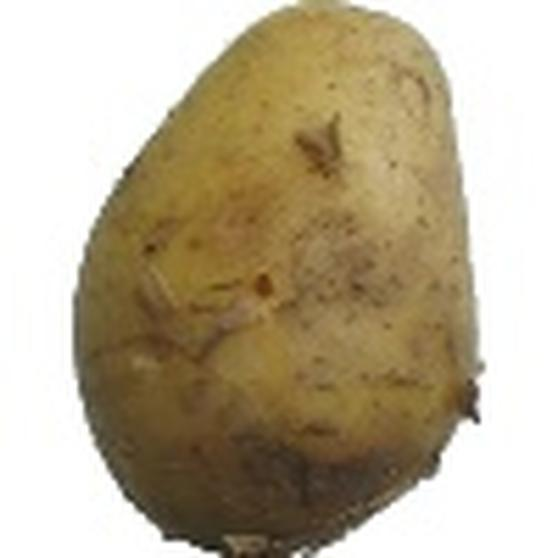potato: (62, 1, 488, 558)
